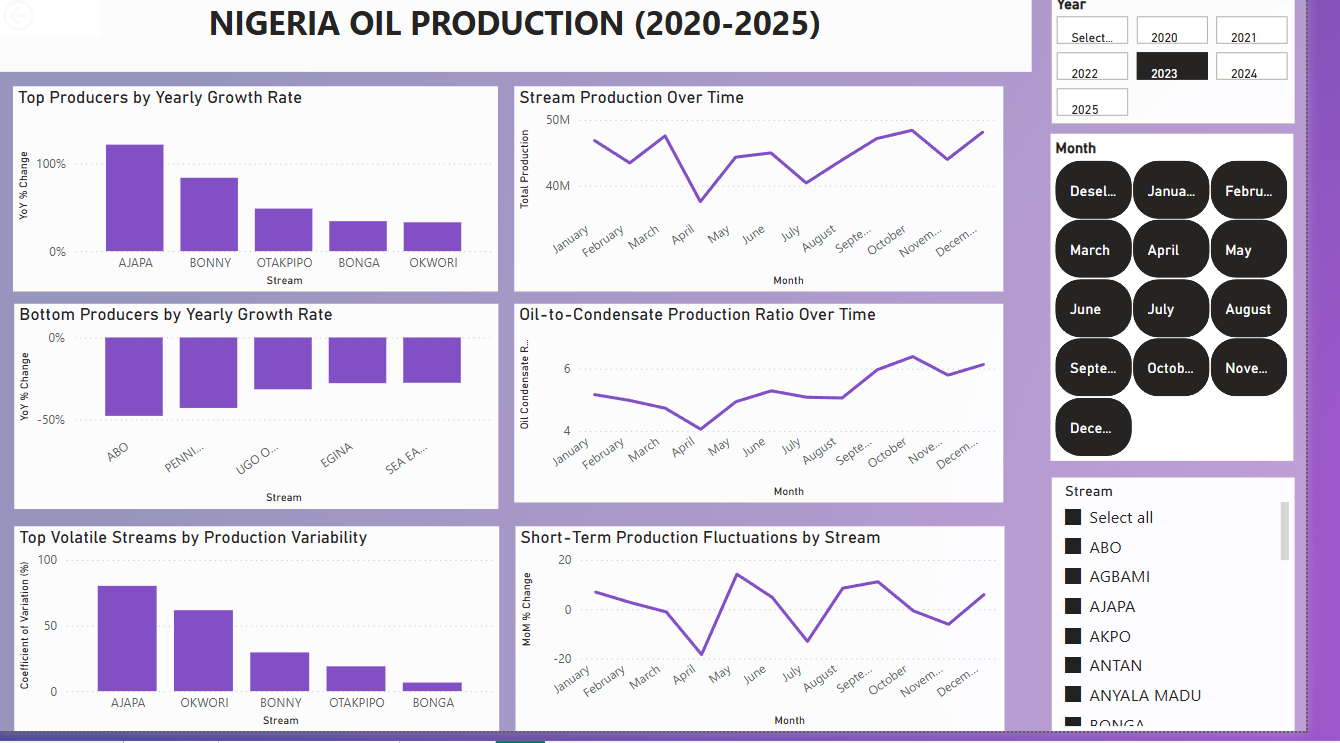

What the dashboard file says about the page in this screenshot:
{"tool":"powerbi","page":{"name":"Performance Trends Volatility","canvas":[1280,720],"ordinal":1},"visuals":[{"type":"advancedSlicerVisual","fields":{"Values":["DateTable.Year"]},"box":[1030.8,0,237.2,126],"z":0},{"type":"advancedSlicerVisual","fields":{"Values":["DateTable.Month"]},"box":[1029.6,135.7,237.2,320.4],"z":1000},{"type":"actionButton","box":[0,0,100,40],"z":2000},{"type":"slicer","fields":{"Values":["combined_cleaned_nuprc_production.Stream"]},"box":[1030.5,472,237.4,248.4],"z":3000},{"type":"textbox","box":[0,0,1011.3,75.5],"z":4000},{"type":"clusteredColumnChart","title":"Bottom Producers by Yearly Growth Rate","fields":{"Y":["combined_cleaned_nuprc_production.YoY % Change"],"Category":["combined_cleaned_nuprc_production.Stream"]},"box":[15.9,302,473.2,200.5],"z":5000},{"type":"clusteredColumnChart","title":"Top Producers by Yearly Growth Rate","fields":{"Y":["combined_cleaned_nuprc_production.YoY % Change"],"Category":["combined_cleaned_nuprc_production.Stream"]},"box":[14.7,89.3,474.5,200.5],"z":6000},{"type":"lineChart","title":"Stream Production Over Time","fields":{"Y":["combined_cleaned_nuprc_production.Total Production"],"Category":["DateTable.Month"]},"box":[505,89.3,478.1,200.5],"z":7000},{"type":"lineChart","title":"Short-Term Production Fluctuations by Stream","fields":{"Category":["DateTable.Month"],"Y":["DateTable.MoM % Change"]},"box":[506.3,519.7,478.1,200.5],"z":8000},{"type":"clusteredColumnChart","title":"Top Volatile Streams by Production Variability","fields":{"Category":["combined_cleaned_nuprc_production.Stream"],"Y":["DateTable.Coefficient of Variation (%)"]},"box":[15.9,519.7,474.5,200.5],"z":9000},{"type":"lineChart","title":"Oil-to-Condensate Production Ratio Over Time","fields":{"Category":["DateTable.Month"],"Y":["combined_cleaned_nuprc_production.Oil Condensate Ratio"]},"box":[505,302,478.1,194.4],"z":10000}]}

Visuals, with their boxes in screenshot pixels (x1, y1, x2, y2), scaled from the page's 1280x720 canvas onto the 1340x743 screenshot:
advancedSlicerVisual - DateTable.Year: detection(1079, 0, 1327, 130)
advancedSlicerVisual - DateTable.Month: detection(1078, 140, 1326, 471)
actionButton: detection(0, 0, 105, 41)
slicer - combined_cleaned_nuprc_production.Stream: detection(1079, 487, 1327, 742)
textbox: detection(0, 0, 1059, 78)
"Bottom Producers by Yearly Growth Rate" clusteredColumnChart: detection(17, 312, 512, 519)
"Top Producers by Yearly Growth Rate" clusteredColumnChart: detection(15, 92, 512, 299)
"Stream Production Over Time" lineChart: detection(529, 92, 1029, 299)
"Short-Term Production Fluctuations by Stream" lineChart: detection(530, 536, 1031, 742)
"Top Volatile Streams by Production Variability" clusteredColumnChart: detection(17, 536, 513, 742)
"Oil-to-Condensate Production Ratio Over Time" lineChart: detection(529, 312, 1029, 512)
